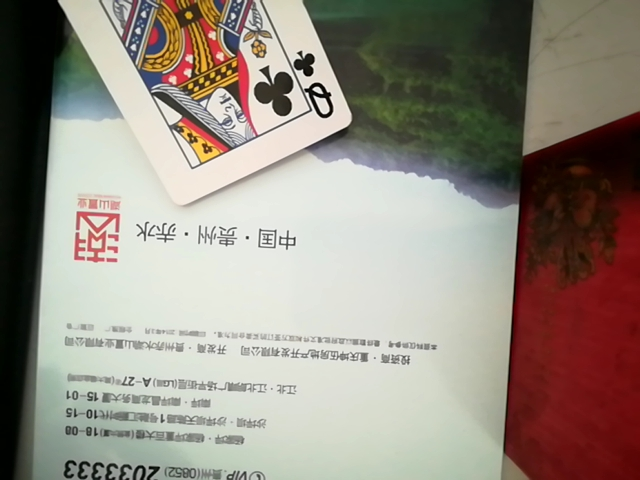mh q: (35, 0, 368, 217)
